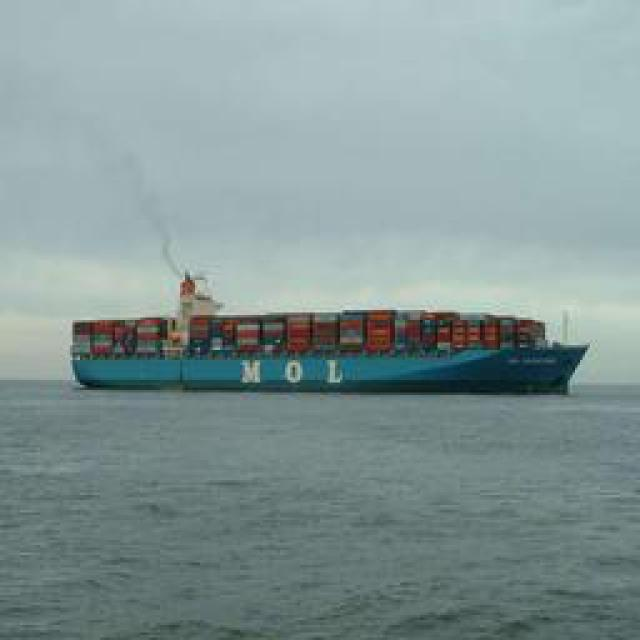Ship: (61, 301, 586, 394)
